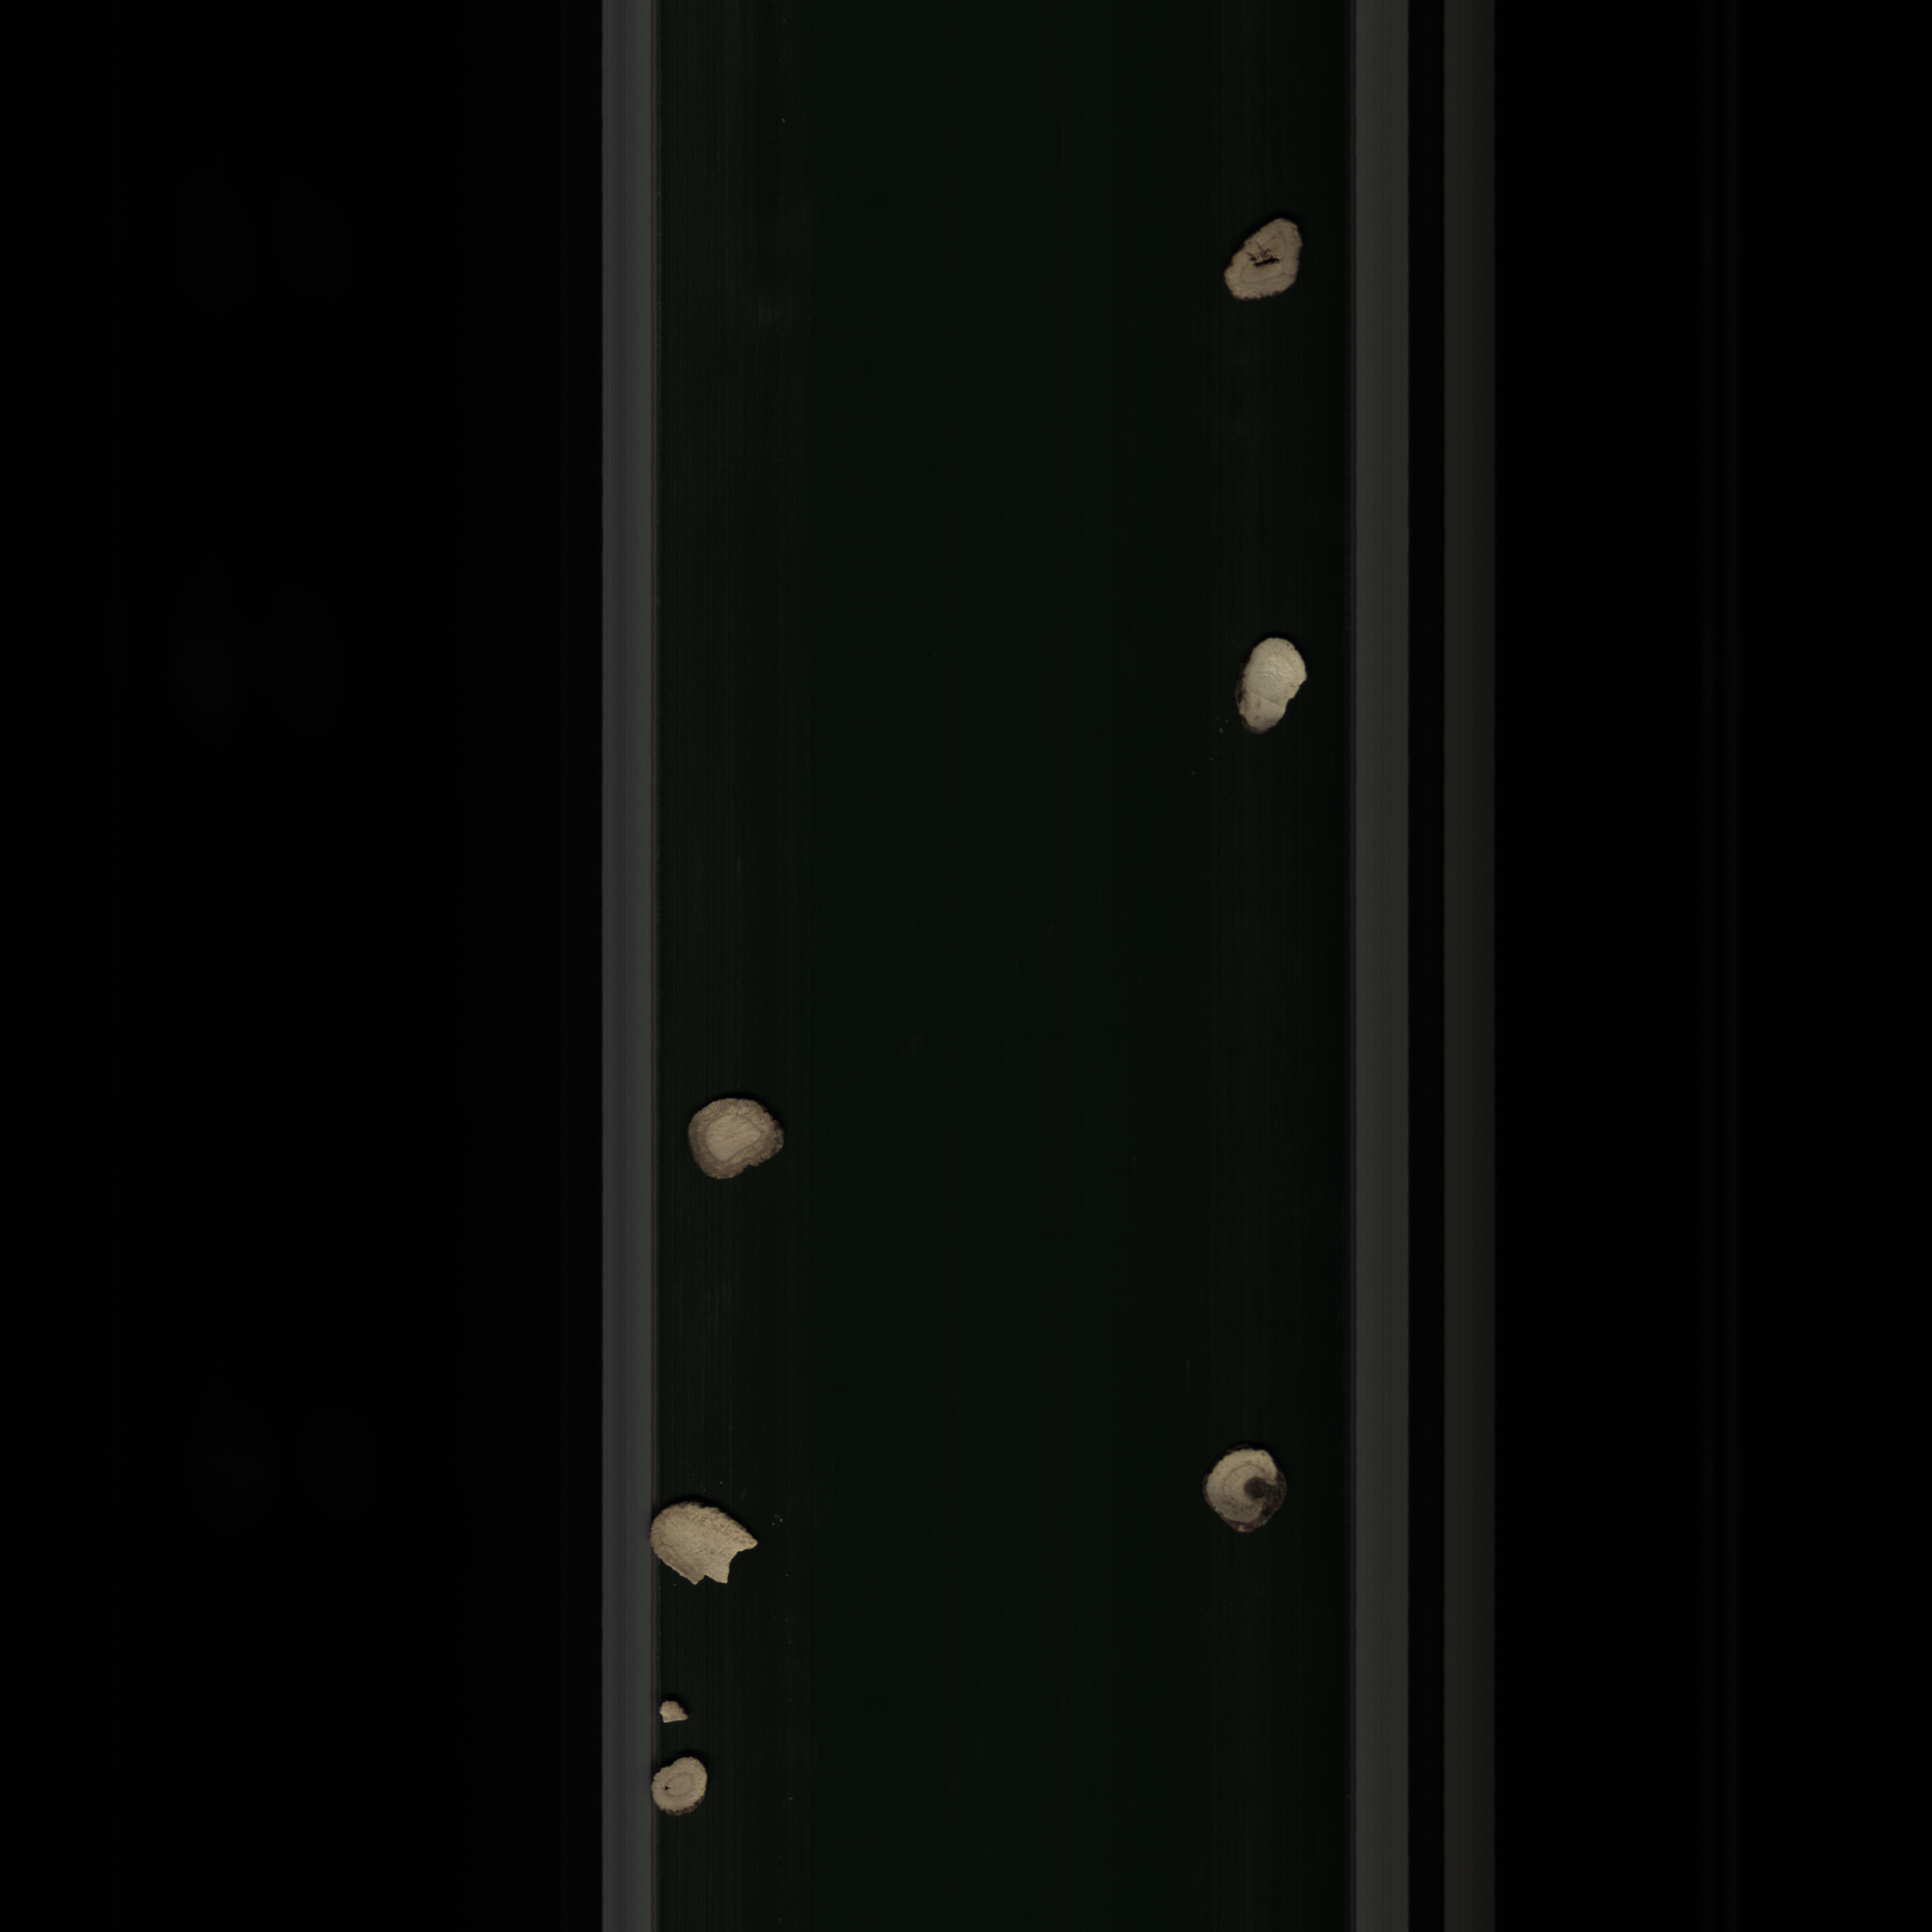bark: (649, 1695, 697, 1732)
debris: (646, 1490, 763, 1606)
moldy: (1191, 1424, 1299, 1550), (1217, 216, 1313, 311)
